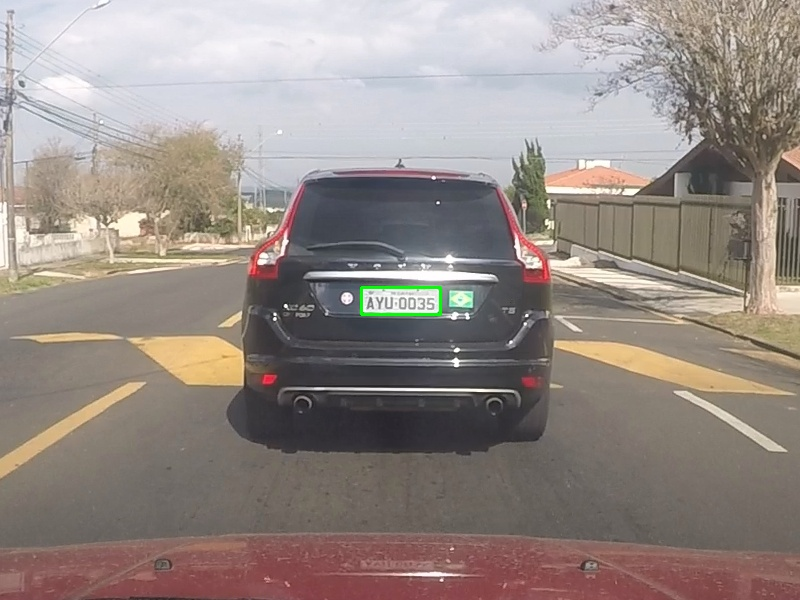placa: (361, 287, 440, 314)
